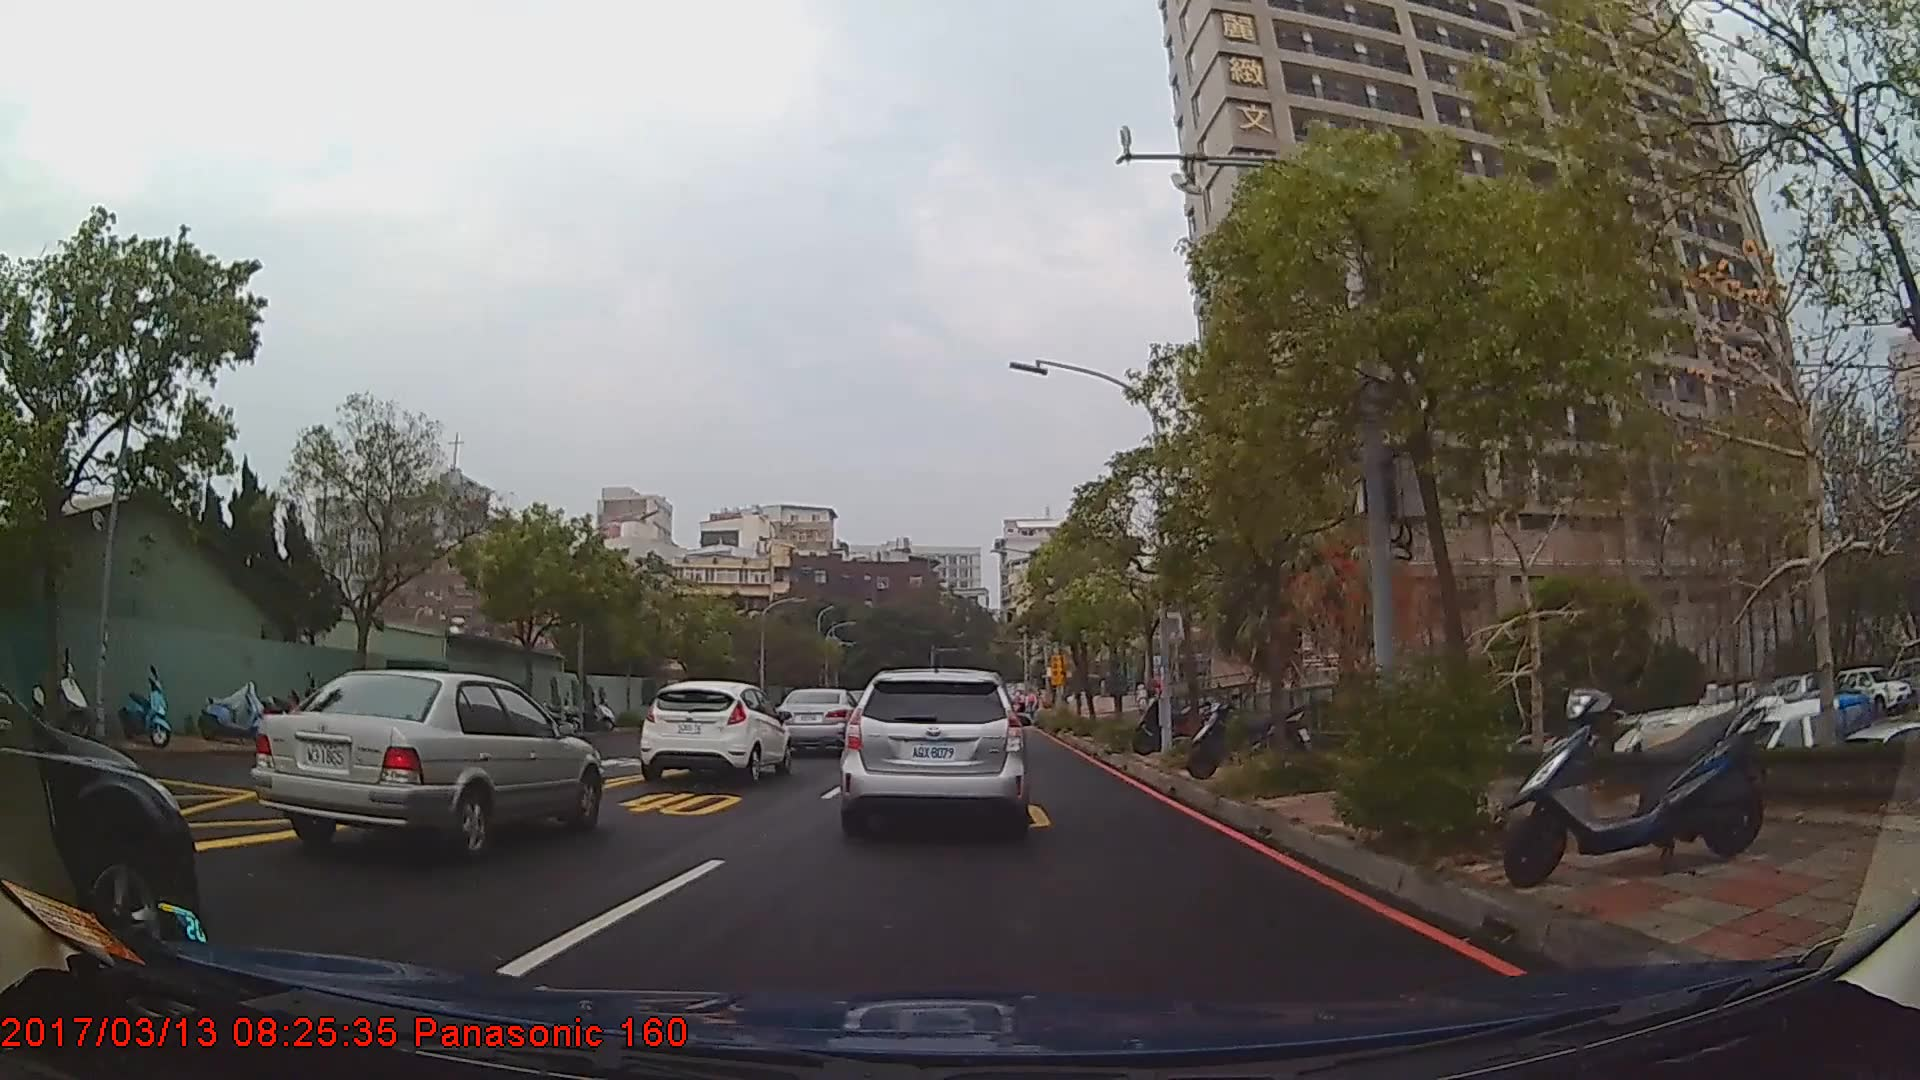vehicle: (245, 669, 604, 858), (0, 669, 199, 963), (837, 667, 1025, 827), (636, 680, 793, 781), (774, 687, 861, 753)
